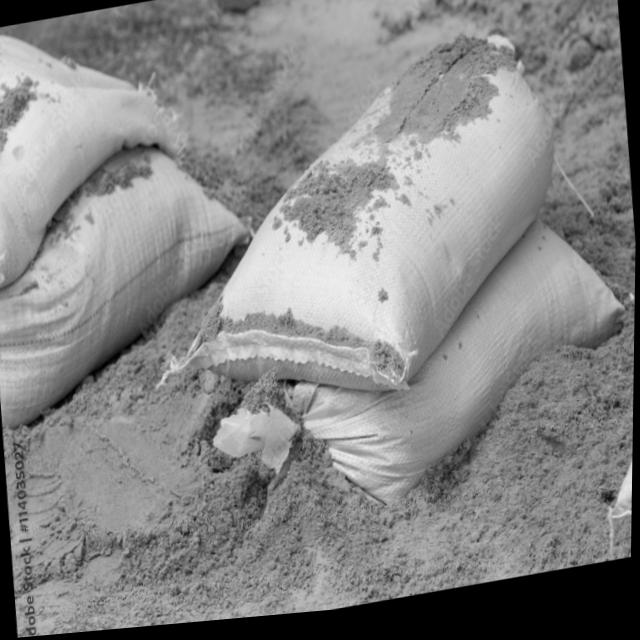sack: (144, 29, 575, 439), (200, 214, 637, 538), (0, 127, 266, 431), (0, 2, 194, 287)
